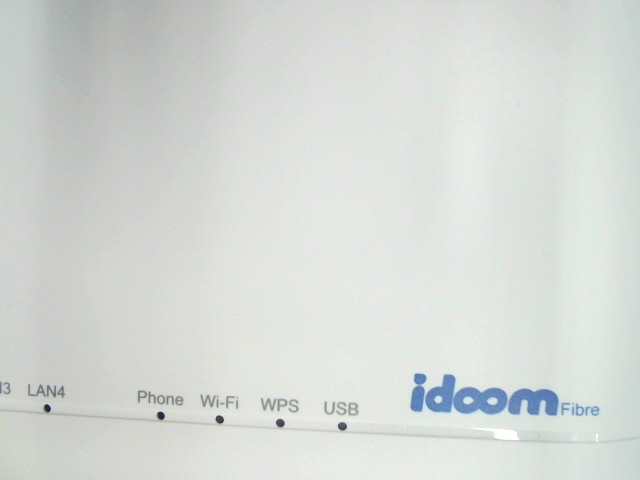BB_idoom: (405, 368, 611, 433)
